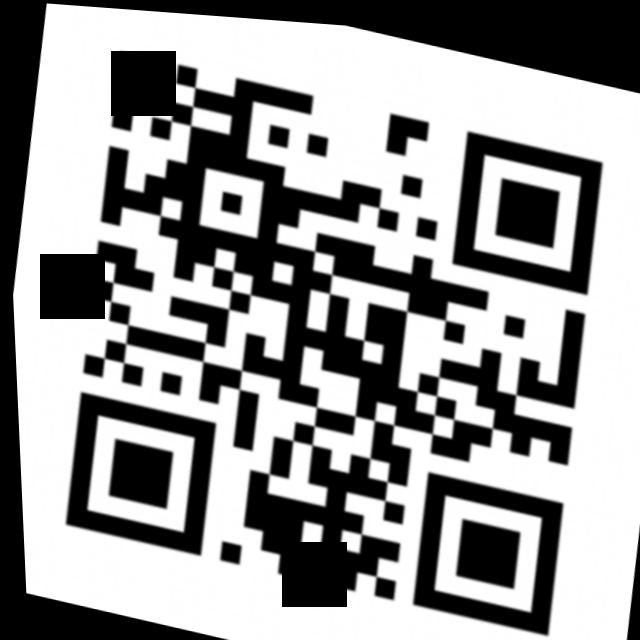QR_CODE: (32, 29, 632, 640)
